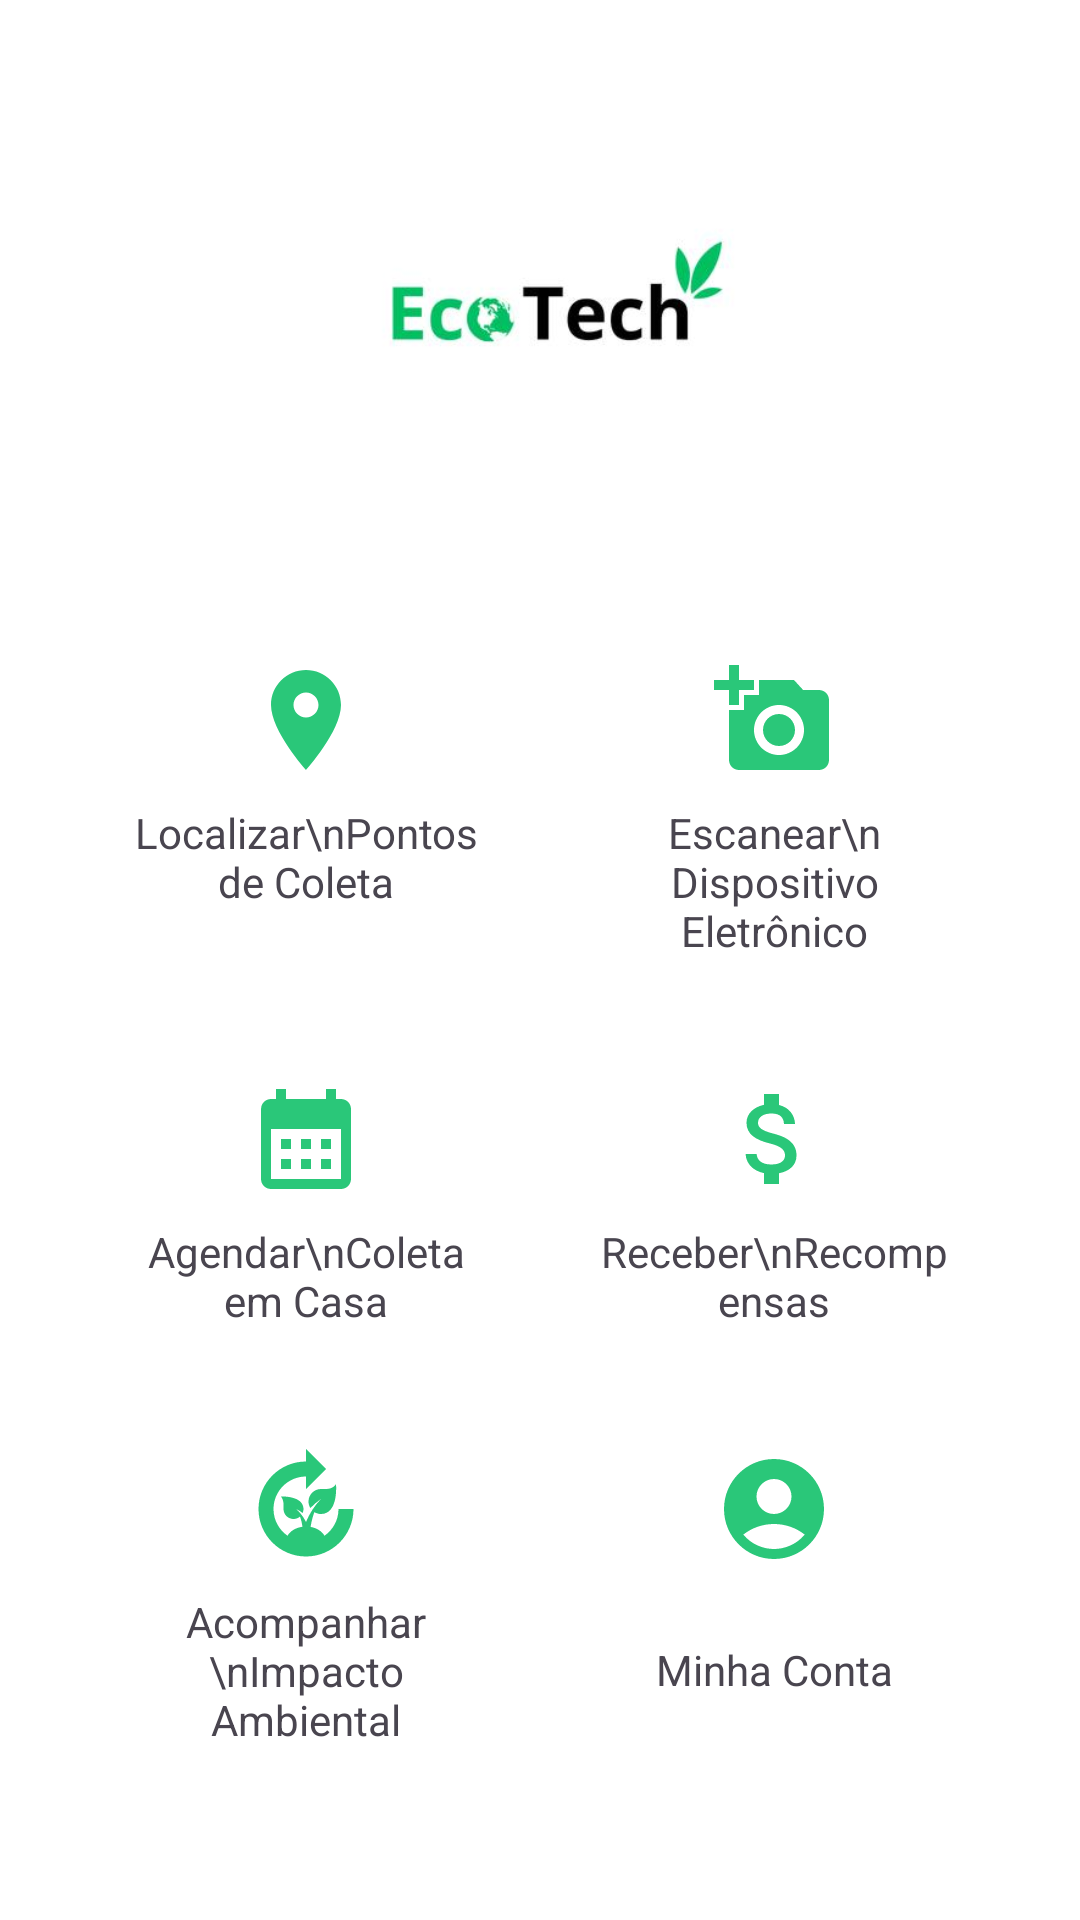

Point at icon controls on the screen. Image size 1080 x 1920, points as (x,y).
agendamento: (306,1139)
location: (306,720)
